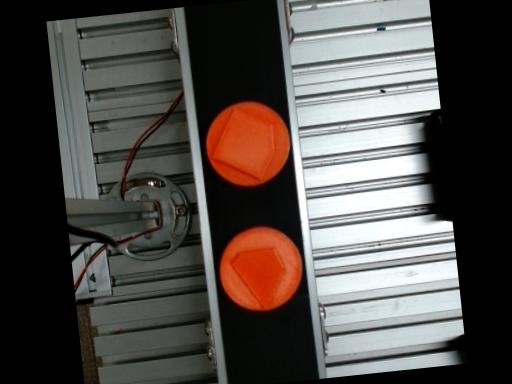Not_Square: (208, 105, 275, 182), (228, 247, 284, 312)
Orange_Waper: (218, 226, 300, 311), (206, 100, 288, 185)
